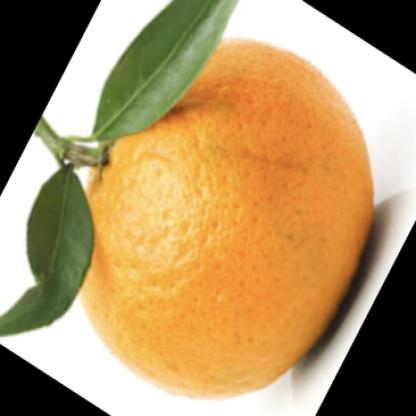fresh: (61, 37, 375, 397)
